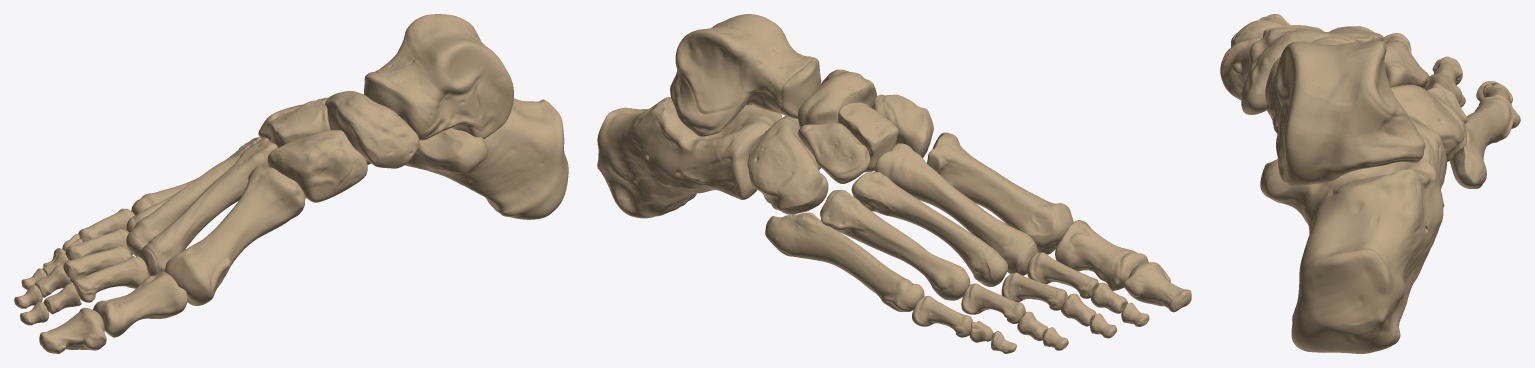
Rendered from feet_skeleton.glb.
3 views of the same model, side by side, from view 1: azimuth 30°, elevation 25°; view 2: azimuth 150°, elevation 25°; view 3: azimuth 270°, elevation 25° (orthographic). The views are drawn at different scales.
Parts seen in each view (by area): view 1: Object_3, Object_4, Object_5, Object_2, Object_6, Object_7; view 2: Object_2, Object_3, Object_4, Object_6, Object_5, Object_7; view 3: Object_5, Object_2, Object_4, Object_6, Object_3, Object_7.
Boxes of the visible parts, x1,y1,x2,y2 form: Object_3: (19, 14, 566, 327); Object_4: (20, 35, 562, 353); Object_5: (14, 15, 568, 350); Object_2: (14, 14, 543, 351); Object_6: (18, 14, 567, 353); Object_7: (15, 14, 567, 353); Object_2: (622, 24, 1191, 348); Object_3: (630, 18, 1148, 342); Object_4: (597, 14, 1183, 353); Object_6: (597, 14, 1191, 350); Object_5: (598, 26, 1165, 340); Object_7: (598, 16, 1188, 350); Object_5: (1221, 20, 1512, 353); Object_2: (1231, 18, 1514, 312); Object_4: (1225, 18, 1520, 341); Object_6: (1220, 14, 1515, 353); Object_3: (1220, 25, 1515, 334); Object_7: (1222, 14, 1517, 352).
Bounding box in the file's own units: 6.39 × 2.28 × 2.39.
